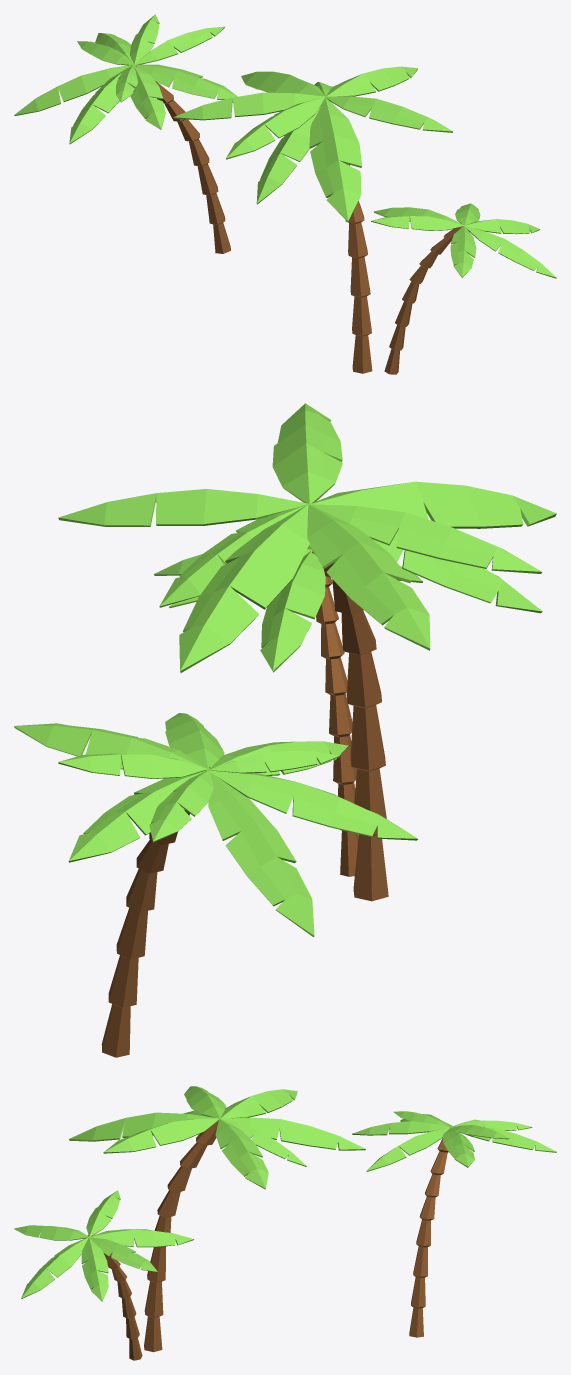
Rendered from trees.gltf.
The picture shows the model from 3 angles, top to bottom: view 1: azimuth 30°, elevation 25°; view 2: azimuth 150°, elevation 25°; view 3: azimuth 270°, elevation 25°; orthographic projection. The views are drawn at different scales.
Visible parts, largest first — view 1: Circle.004, Circle, Circle.014, Circle.002, Circle.027, Circle.003, Circle.005, Circle.007, Circle.015, Circle.018, Circle.006, Circle.016 (+12 smaller); view 2: Circle.001, Circle, Circle.002, Circle.015, Circle.004, Circle.006, Circle.003, Circle.014, Circle.016, Circle.005, Circle.007, Circle.011 (+9 smaller); view 3: Circle, Circle.014, Circle.001, Circle.006, Circle.005, Circle.004, Circle.002, Circle.011, Circle.008, Circle.007, Circle.009, Circle.018 (+11 smaller).
Boxes of the visible parts, box(x1,y1,x2,y2) form: Circle.004: box(309, 96, 362, 221); Circle: box(323, 100, 372, 373); Circle.014: box(136, 65, 230, 253); Circle.002: box(173, 92, 324, 120); Circle.027: box(256, 97, 325, 204); Circle.003: box(226, 97, 324, 159); Circle.005: box(325, 96, 452, 132); Circle.007: box(384, 226, 462, 374); Circle.015: box(14, 65, 131, 115); Circle.018: box(134, 64, 237, 99); Circle.006: box(326, 66, 417, 96); Circle.016: box(69, 65, 132, 144); Circle.001: box(179, 504, 309, 672); Circle: box(324, 561, 388, 901); Circle.002: box(307, 504, 430, 650); Circle.015: box(208, 772, 314, 936); Circle.004: box(308, 481, 556, 528); Circle.006: box(58, 489, 308, 526); Circle.003: box(310, 504, 541, 573); Circle.014: box(101, 767, 210, 1057); Circle.016: box(210, 770, 417, 840); Circle.005: box(272, 403, 342, 504); Circle.007: box(312, 551, 358, 876); Circle.011: box(260, 549, 325, 672); Circle: box(144, 1121, 218, 1352); Circle.014: box(409, 1138, 448, 1337); Circle.001: box(221, 1117, 365, 1150); Circle.006: box(215, 1119, 268, 1189); Circle.005: box(103, 1118, 219, 1153); Circle.004: box(69, 1112, 218, 1141); Circle.002: box(220, 1089, 297, 1118); Circle.011: box(89, 1229, 193, 1247); Circle.008: box(21, 1237, 88, 1298); Circle.007: box(87, 1235, 142, 1360); Circle.009: box(81, 1237, 108, 1301); Circle.018: box(366, 1128, 449, 1171).
Bounding box in the file's own units: 3.87 × 3.07 × 6.31.
